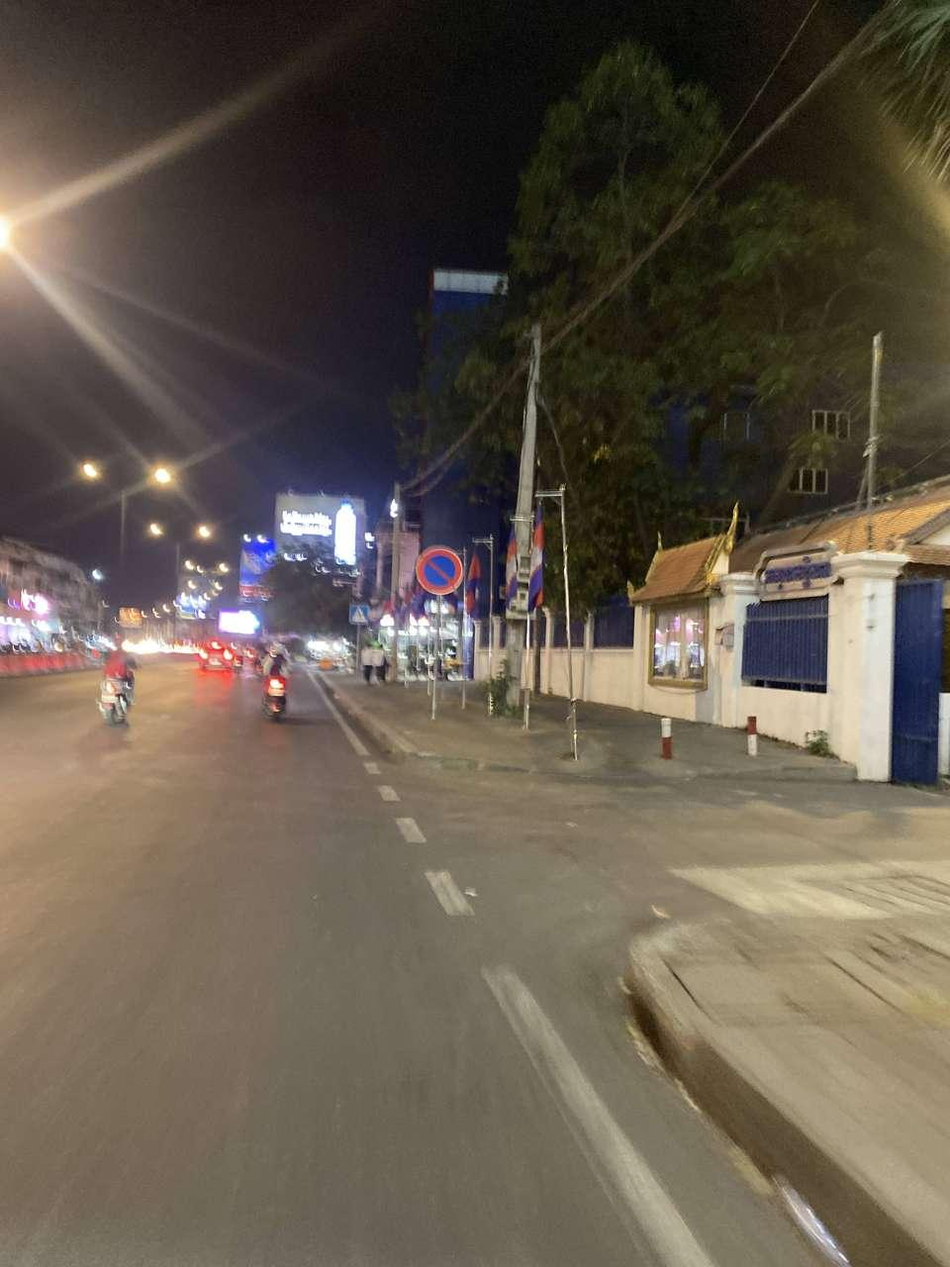parking_prohibited: (415, 543, 464, 597)
pedestrian_crossing: (346, 604, 370, 627)
